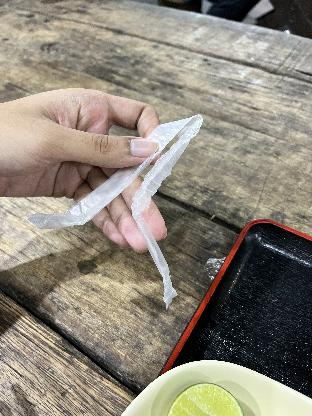Others: (30, 113, 206, 306), (200, 254, 226, 278)
